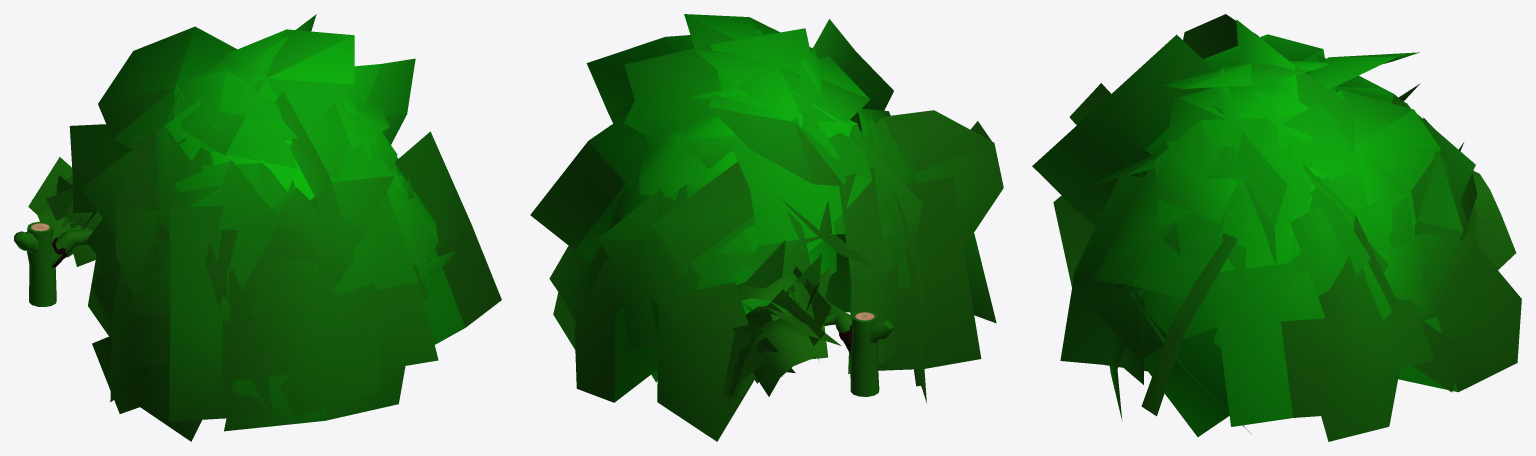
File: obj_harvests_trees_leafy02_p02.fbx
3 views of the same model, side by side, from view 1: azimuth 30°, elevation 25°; view 2: azimuth 150°, elevation 25°; view 3: azimuth 270°, elevation 25° (orthographic). The views are drawn at different scales.
Parts seen in each view (by area): view 1: chunk02; view 2: chunk02; view 3: chunk02.
Part boxes in pixels (x1=…): chunk02: x1=14, y1=14, x2=501, y2=441; chunk02: x1=530, y1=14, x2=1003, y2=441; chunk02: x1=1032, y1=14, x2=1521, y2=441.
Bounding box in the file's own units: 43.09 × 37.98 × 45.05.
